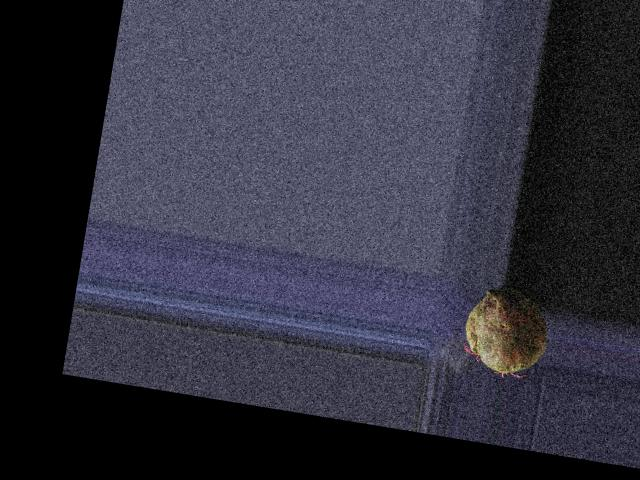beet: (458, 282, 553, 382)
